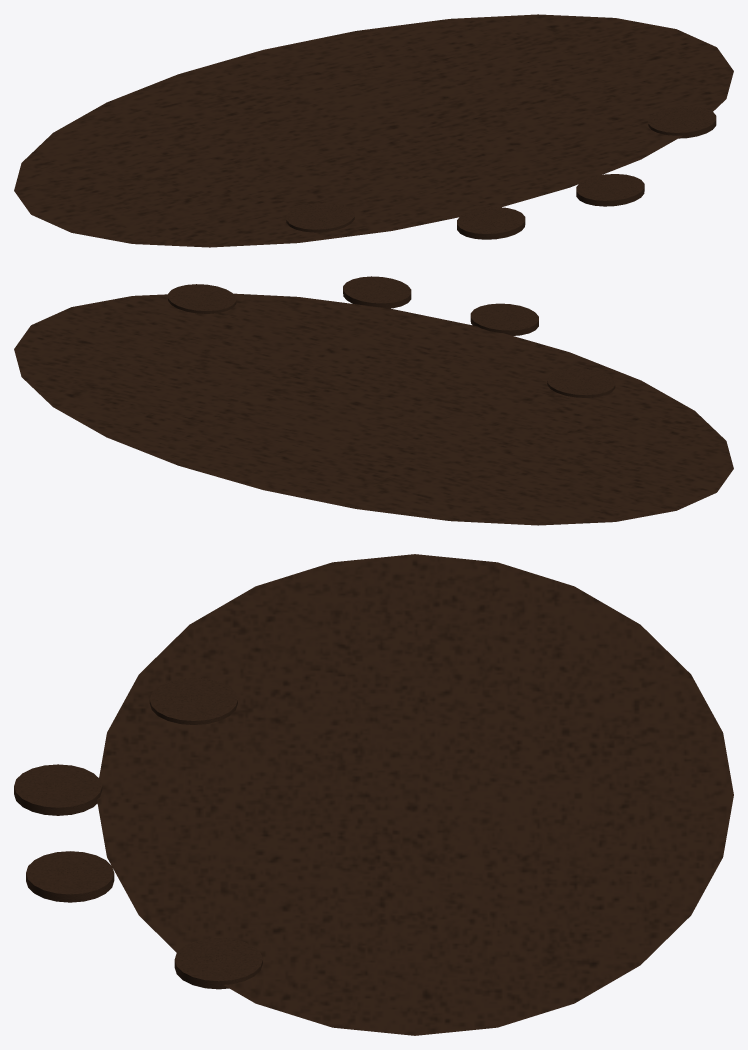
The picture shows the model from 3 angles, top to bottom: view 1: azimuth 30°, elevation 25°; view 2: azimuth 150°, elevation 25°; view 3: azimuth 270°, elevation 25°; orthographic projection. The views are drawn at different scales.
Visible parts, largest first — view 1: c-blood; view 2: c-blood; view 3: c-blood.
Boxes of the visible parts, box(x1,y1,x2,y2) form: c-blood: box(14, 14, 733, 247); c-blood: box(14, 276, 733, 525); c-blood: box(14, 554, 733, 1035).
Bounding box in the file's own units: 0.38 × 0.003 × 0.24.
Materials: 1 (1 with a texture image).
